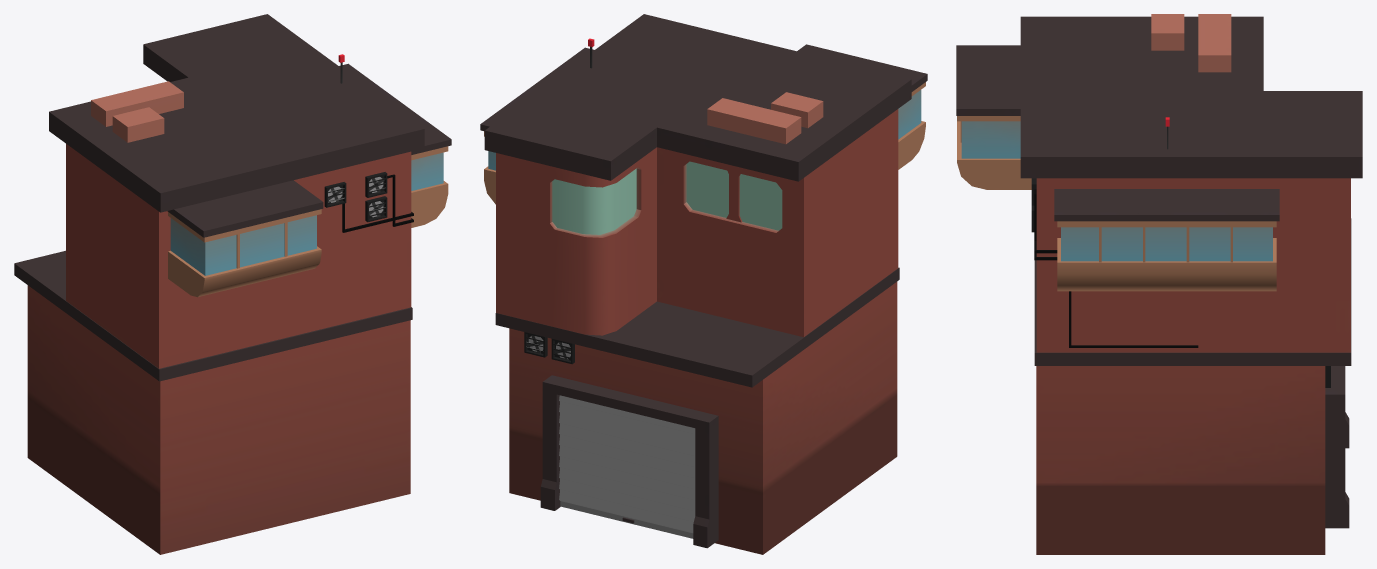
The model's file is NorthWest_House_04.fbx.
3 renders of one model, left to right at view 1: azimuth 30°, elevation 25°; view 2: azimuth 150°, elevation 25°; view 3: azimuth 270°, elevation 25°, orthographic. The views are drawn at different scales.
Parts seen in each view (by area): view 1: NorthWest_House_04; view 2: NorthWest_House_04; view 3: NorthWest_House_04.
Part boxes in pixels (x1=…): NorthWest_House_04: x1=14, y1=14, x2=451, y2=554; NorthWest_House_04: x1=480, y1=14, x2=927, y2=554; NorthWest_House_04: x1=956, y1=14, x2=1362, y2=554.
Size of the model in its own units: 27.64 by 34.13 by 29.11.
2 materials, 2 textured.
